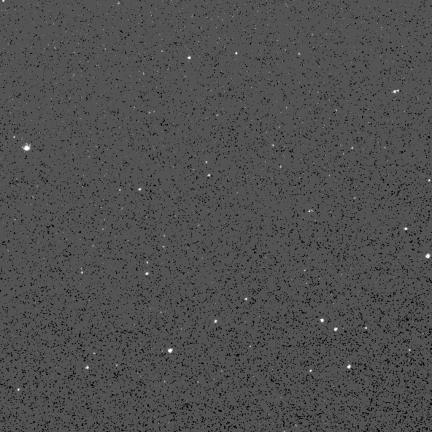blob: (425, 254, 430, 259), (168, 349, 173, 354), (334, 327, 338, 332), (347, 365, 351, 369), (214, 320, 218, 324), (321, 319, 325, 323)
